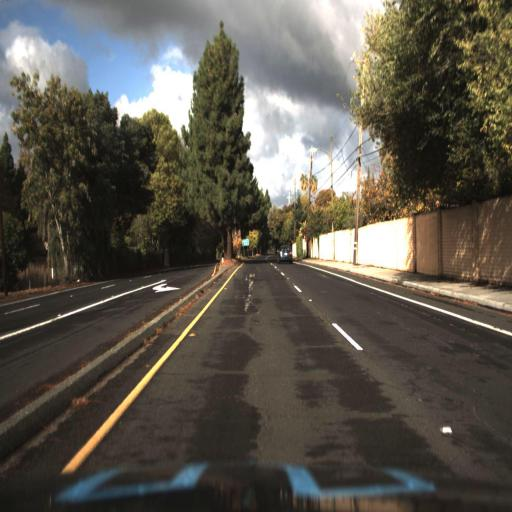car: (279, 246, 296, 264)
